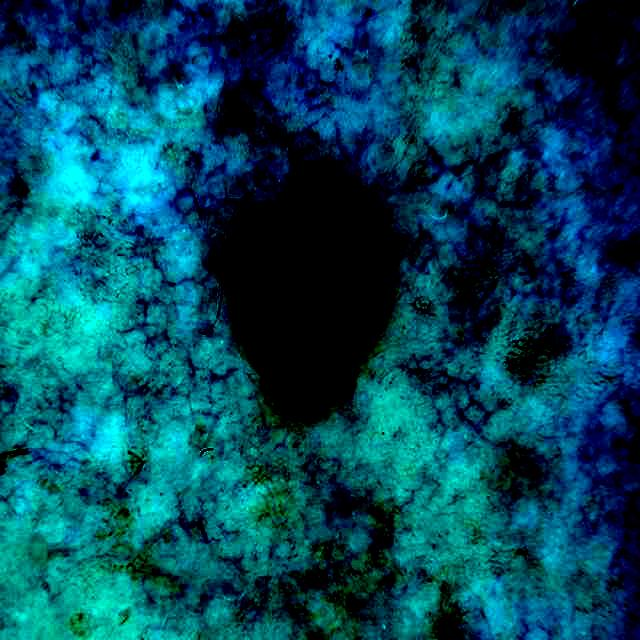BKL: (229, 188, 390, 412)
